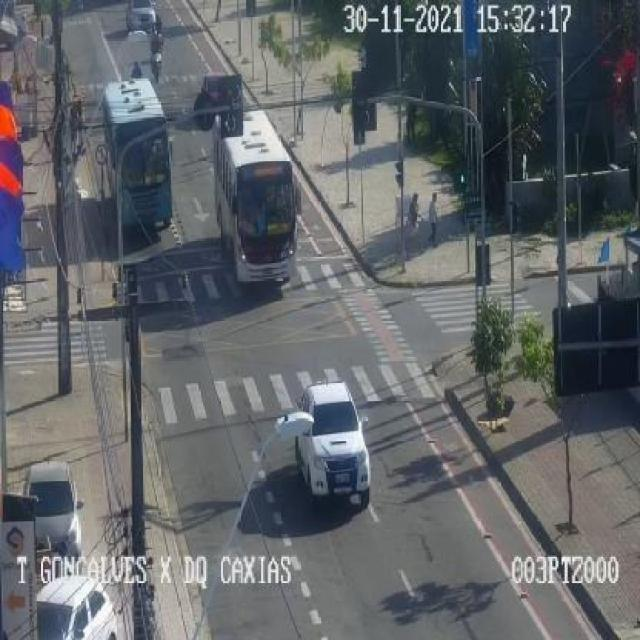Bus: (212, 101, 318, 296), (90, 78, 182, 266)
Car: (286, 351, 389, 511)
